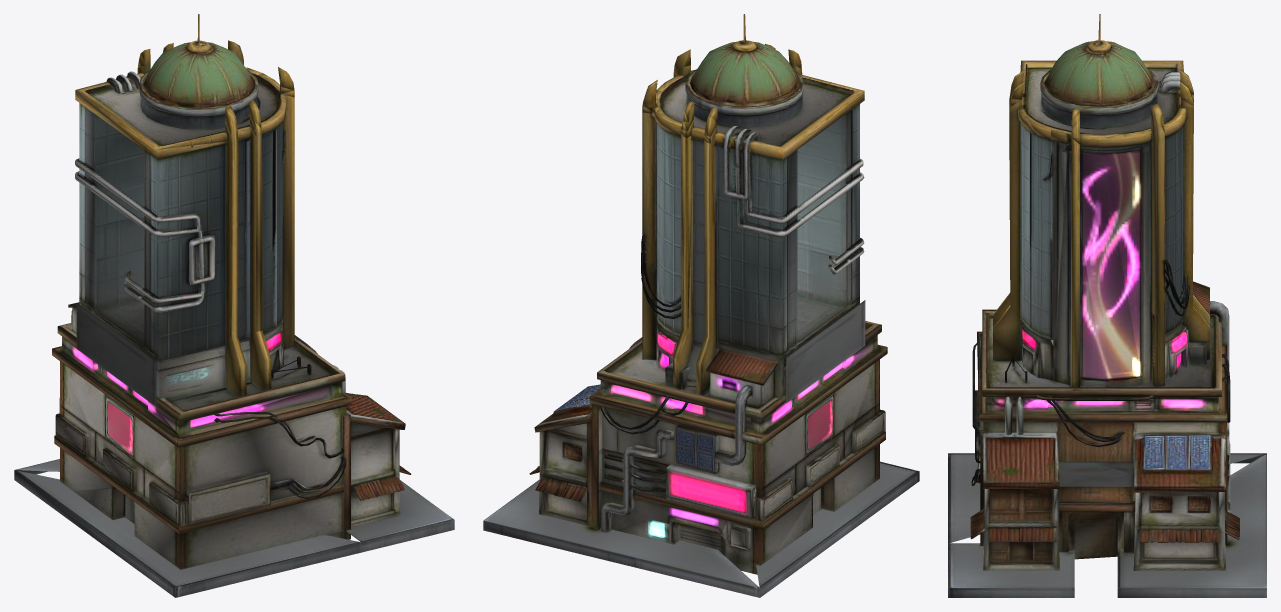
File: casino_tower.glb
The picture shows the model from 3 angles, left to right: view 1: azimuth 30°, elevation 25°; view 2: azimuth 150°, elevation 25°; view 3: azimuth 270°, elevation 25°; orthographic projection.
Parts seen in each view (by area): view 1: Body, Glow, Trim; view 2: Body, Glow, Trim; view 3: Body, Glow, Trim.
Boxes of the visible parts, box(x1,y1,x2,y2) form: Body: box(14, 14, 454, 597); Glow: box(62, 332, 300, 435); Trim: box(137, 22, 294, 360); Body: box(483, 14, 919, 597); Glow: box(611, 333, 876, 539); Trim: box(642, 41, 801, 359); Body: box(948, 14, 1266, 597); Glow: box(985, 152, 1218, 412); Trim: box(994, 15, 1209, 382).
Bounding box in the file's own units: 14.53 × 25 × 14.53.
3 materials, 3 textured.
